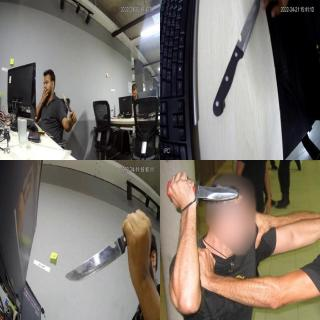knife: (212, 0, 262, 120), (163, 168, 241, 204), (63, 240, 119, 284), (63, 93, 73, 117)
